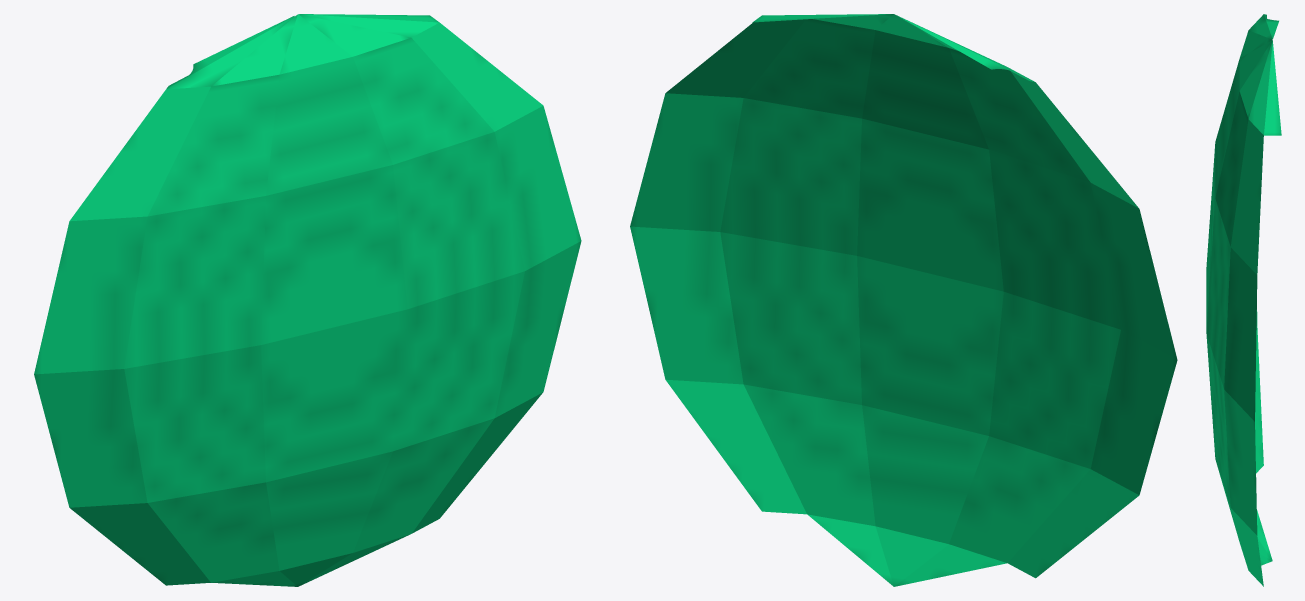
The model's file is nyc_subway_signal_light_2g_light_layer.obj.
The picture shows the model from 3 angles, left to right: view 1: azimuth 30°, elevation 25°; view 2: azimuth 150°, elevation 25°; view 3: azimuth 270°, elevation 25°; orthographic projection. The views are drawn at different scales.
Visible parts, largest first — view 1: light; view 2: light; view 3: light.
Boxes of the visible parts, <box> form: light: <box>34,14,581,586</box>; light: <box>630,14,1177,586</box>; light: <box>1206,14,1281,586</box>.
Bounding box in the file's own units: 0.2031 × 0.2031 × 0.0297.
Materials: 1 (1 with a texture image).
